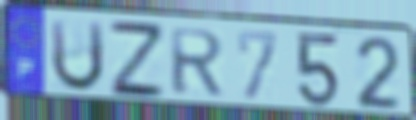2: (353, 34, 402, 111)
5: (293, 29, 340, 108)
7: (235, 27, 279, 103)
R: (167, 26, 227, 98)
U: (47, 17, 106, 95)
Z: (106, 17, 169, 101)
